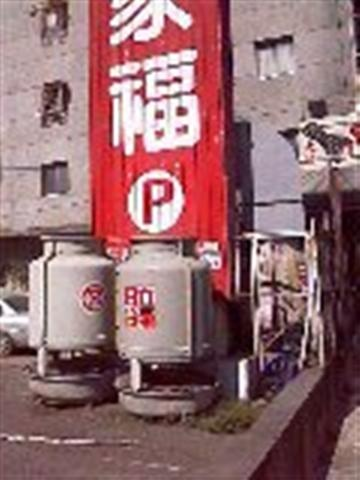water_tower: (114, 233, 221, 414), (27, 232, 116, 410)
